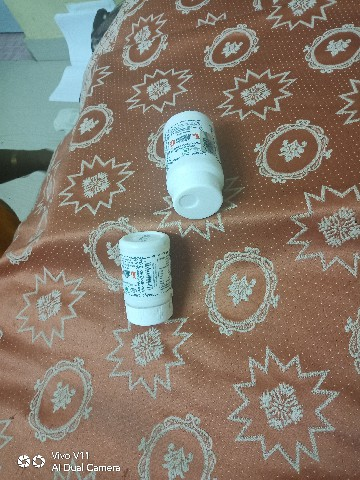lgasafoetidapowder large: (156, 91, 232, 225)
lgasafoetidapowder small: (106, 221, 178, 334)
